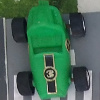verde_sur: (11, 4, 91, 100)
